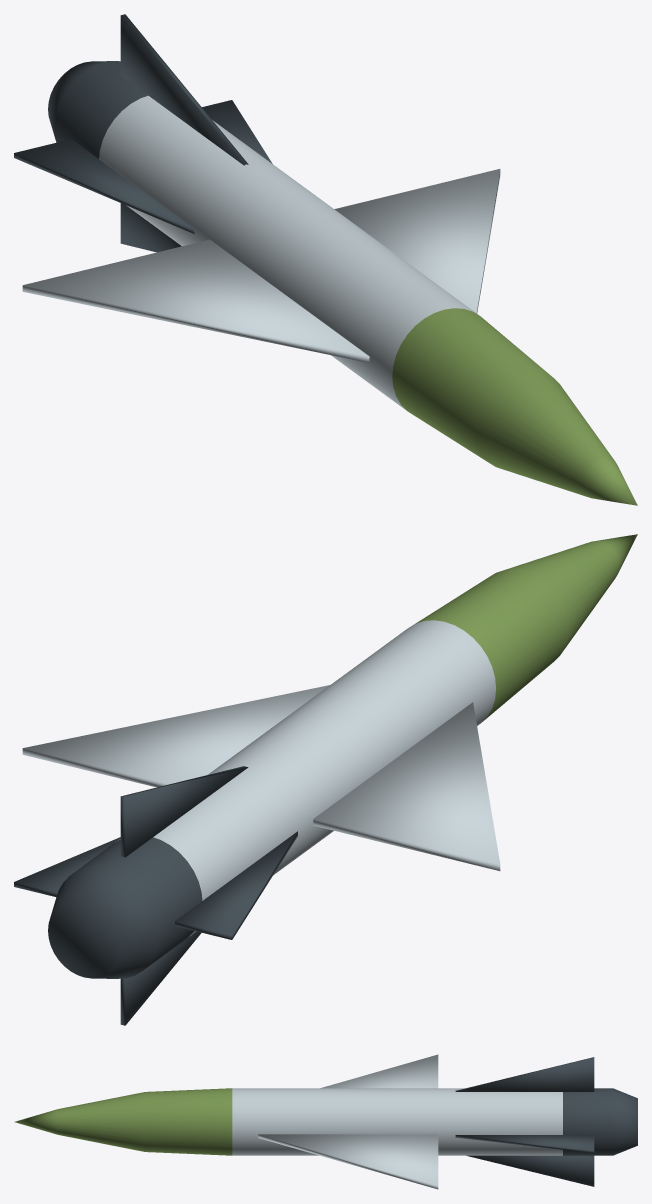
The model's file is missile_cruise_projectile_display.glb.
The picture shows the model from 3 angles, top to bottom: view 1: azimuth 30°, elevation 25°; view 2: azimuth 150°, elevation 25°; view 3: azimuth 270°, elevation 25°; orthographic projection. The views are drawn at different scales.
Parts seen in each view (by area): view 1: AMMO_MESH.061; view 2: AMMO_MESH.061; view 3: AMMO_MESH.061.
Part boxes in pixels (bbox=[...]): AMMO_MESH.061: bbox=[14, 14, 637, 505]; AMMO_MESH.061: bbox=[14, 534, 637, 1025]; AMMO_MESH.061: bbox=[15, 1054, 637, 1189].
Bounding box in the file's own units: 2.39 × 1.09 × 4.8.
